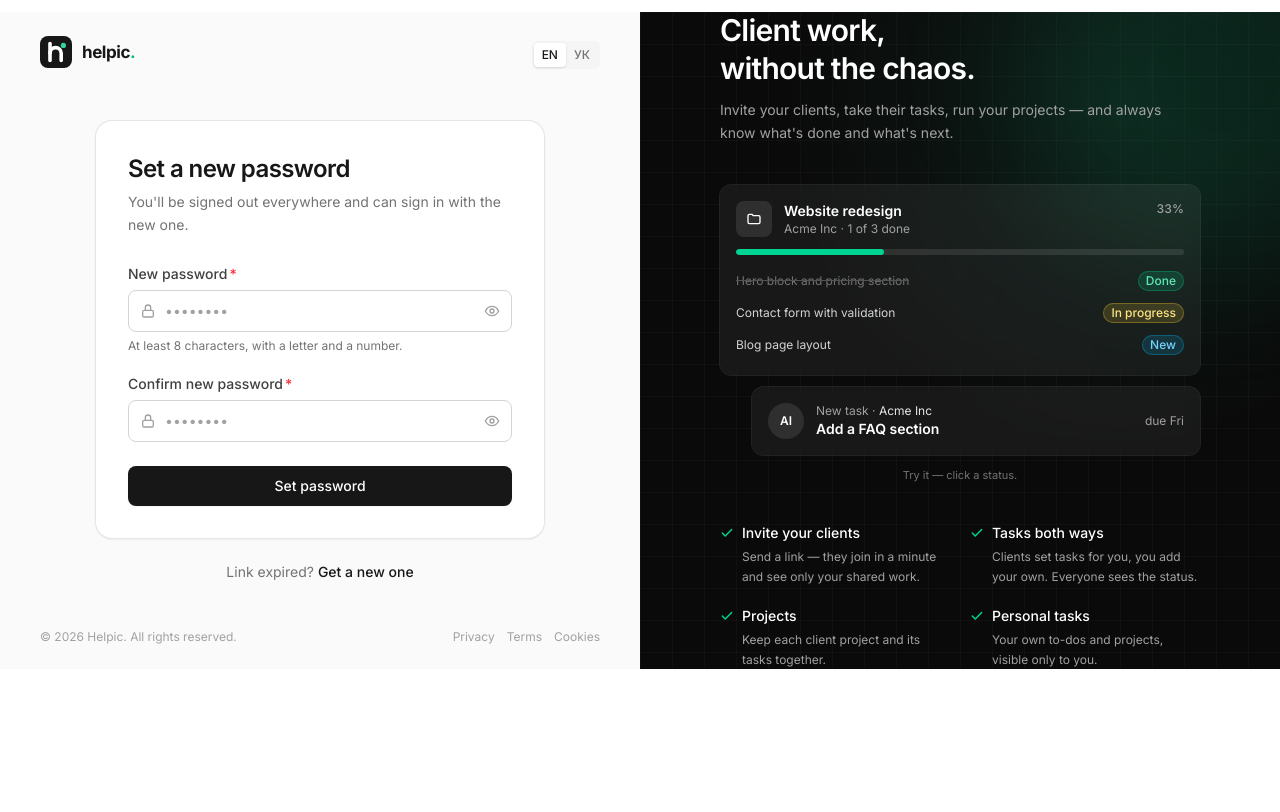
Test: ResetPasswordView › shows an expired link’s refusal
Type "newpass2030" into the password field labelled "New password*" at x=320, y=311, box [128,290,512,332]
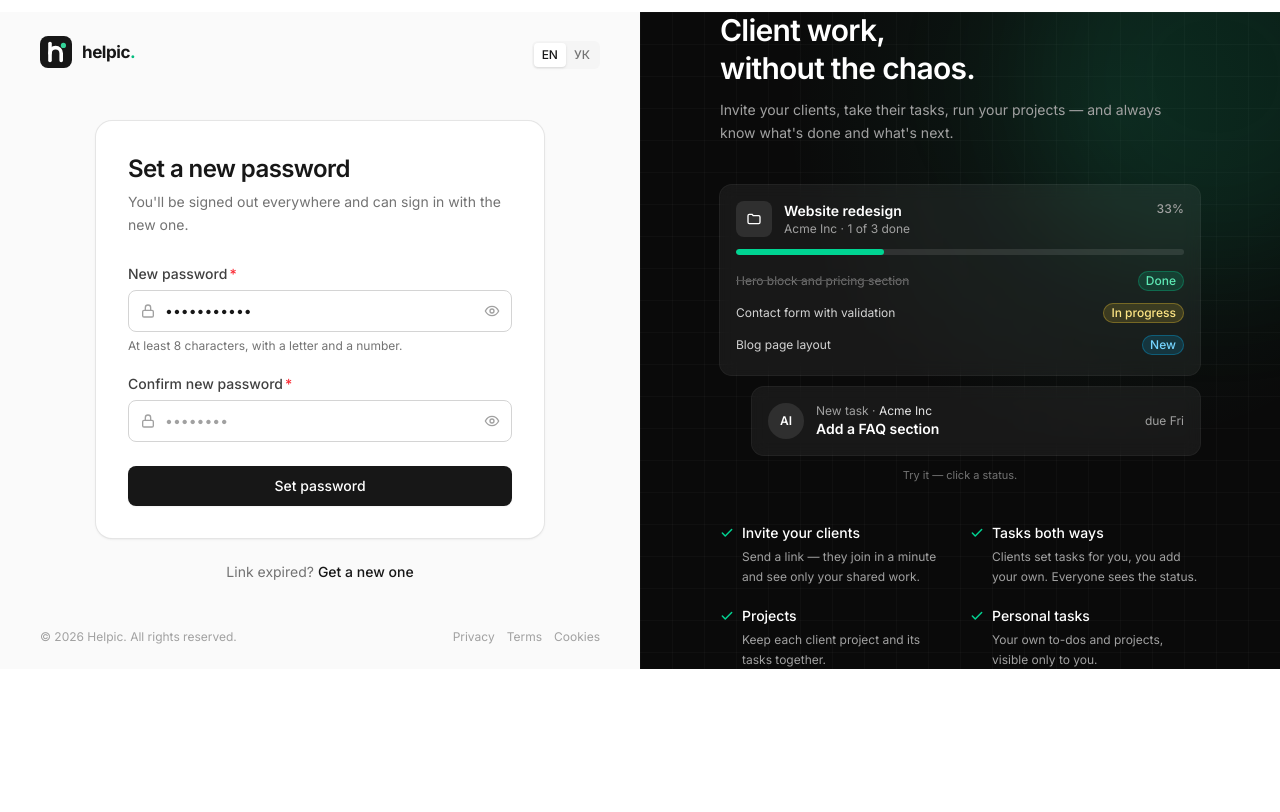
Type "newpass2030" into the password field labelled "Confirm new password*" at x=320, y=421, box [128,400,512,442]
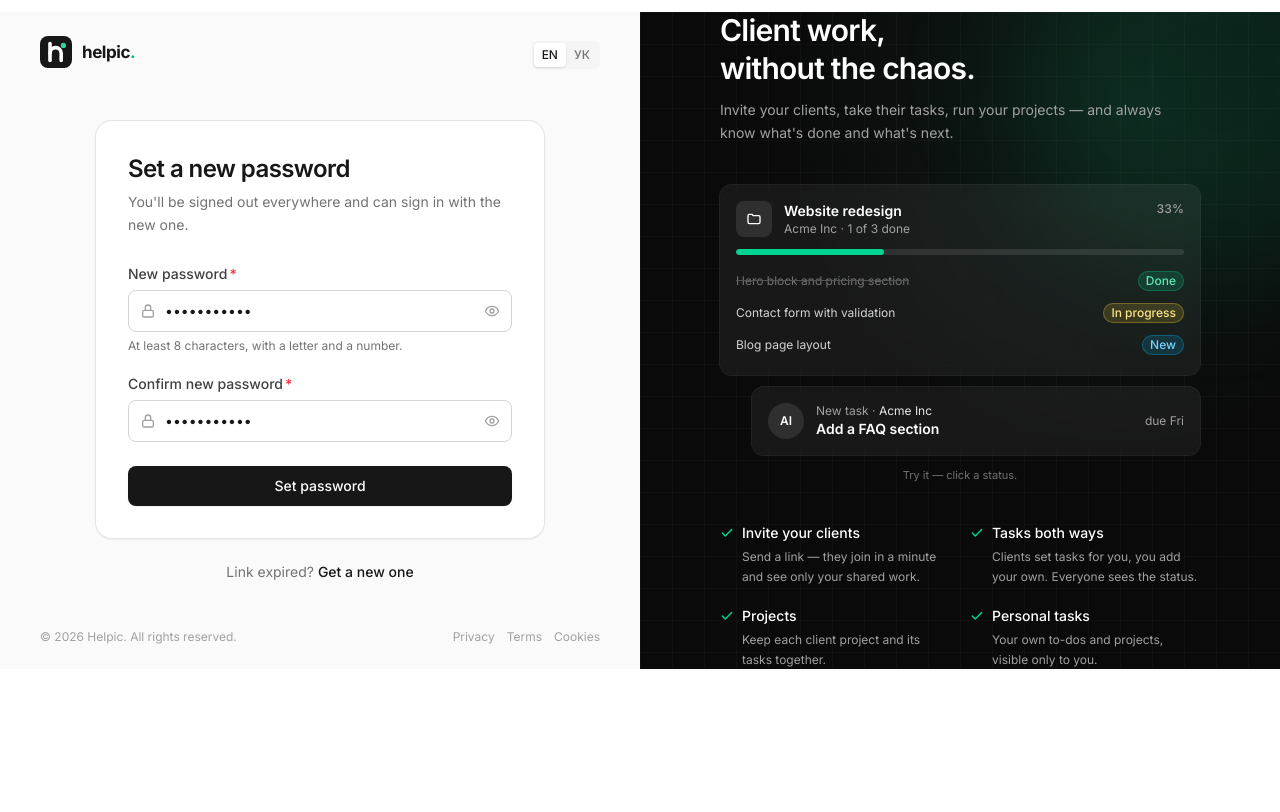
Submit the form, box [128,264,512,506]
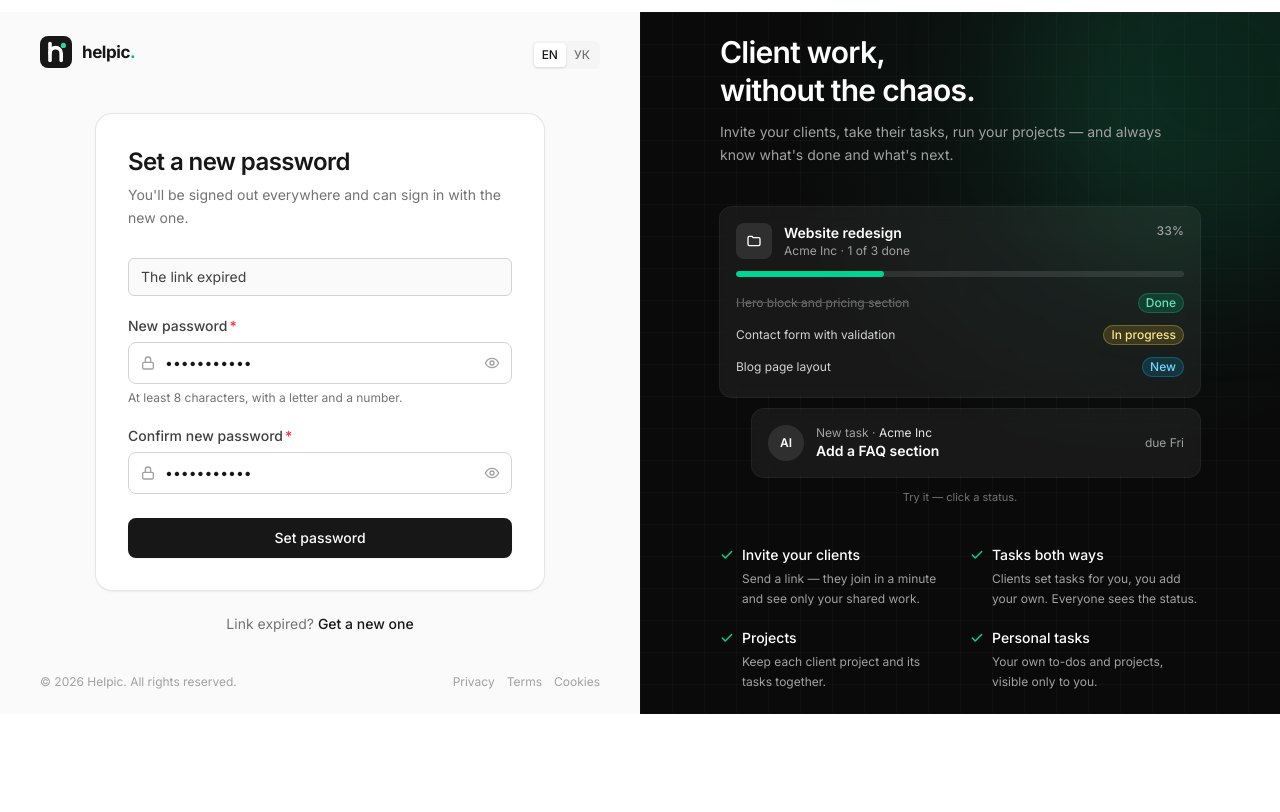
Expected: the text "The link expired" is shown, [128,258,512,296]
